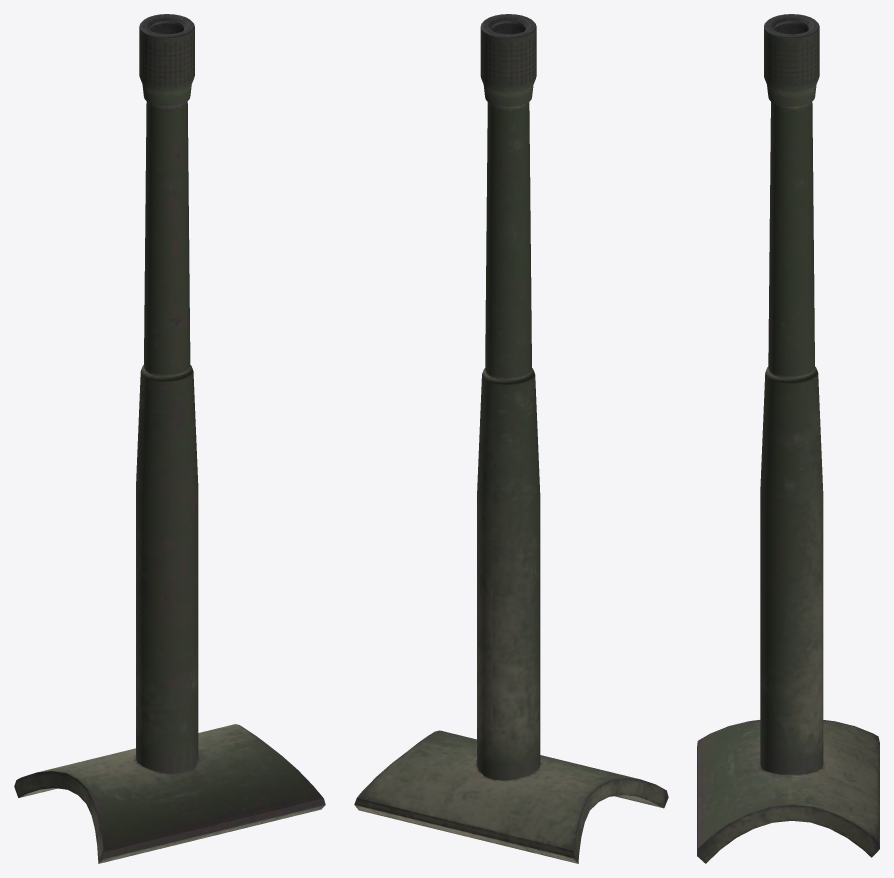
Rendered from Gun_06.glb.
3 views of the same model, side by side, from view 1: azimuth 30°, elevation 25°; view 2: azimuth 150°, elevation 25°; view 3: azimuth 270°, elevation 25° (orthographic).
Parts seen in each view (by area): view 1: set_0_group_0; view 2: set_0_group_0; view 3: set_0_group_0.
Boxes of the visible parts, x1=… form: set_0_group_0: x1=14, y1=14, x2=325, y2=863; set_0_group_0: x1=354, y1=14, x2=668, y2=863; set_0_group_0: x1=697, y1=14, x2=879, y2=863.
Size of the model in its own units: 0.8136 by 2.72 by 0.5745.
Materials: 1 (1 with a texture image).
